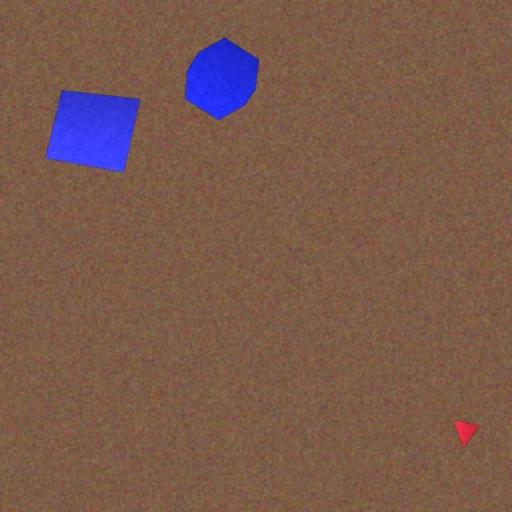BLUE_SQUARE: (45, 90, 141, 174)
